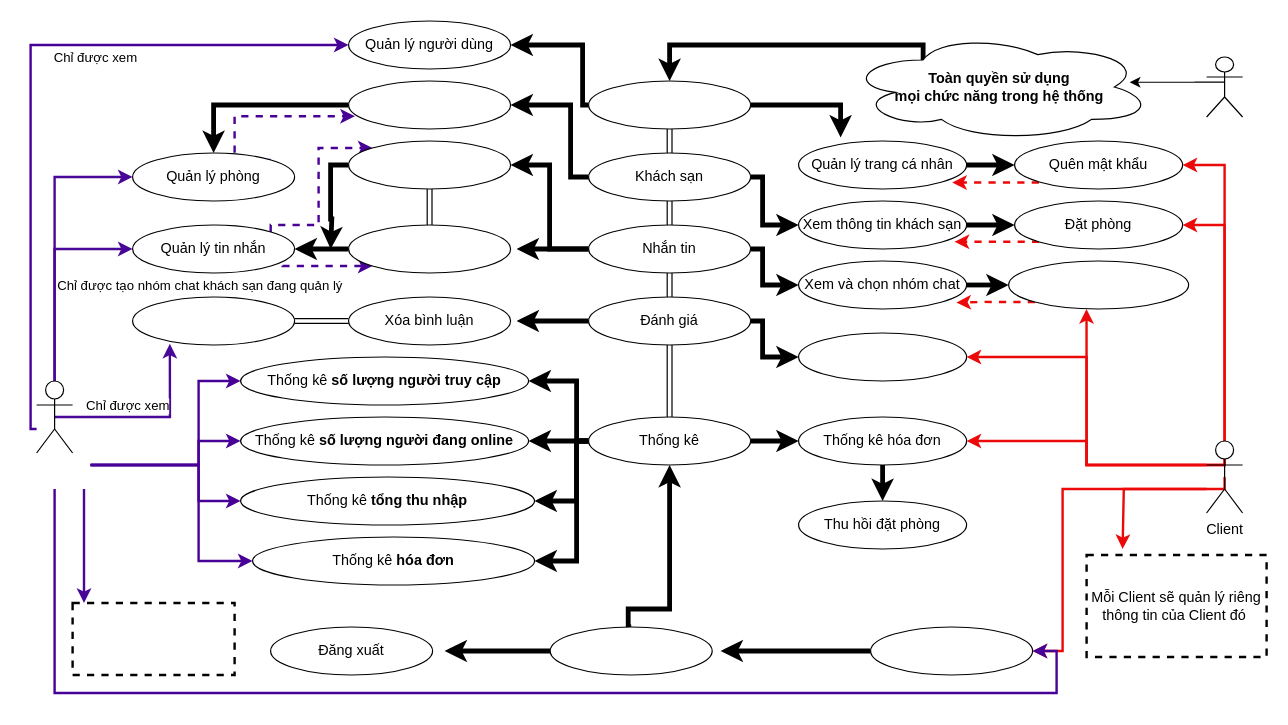
The diagram is 1288 pixels wide and 725 high, and some of its shapes have lost their labels. The shapes that lost their labels are listed below. From the top down, each one's centre as x and y in pixels, then its label:
At [429,104]: "Quản lý khách sạn".
At [669,104]: "Người dùng".
At [1224,86]: "Admin".
At [429,164]: "Quản lý người chat".
At [429,248]: "Quản lý nhóm chat".
At [1098,284]: "Quản lý tin nhắn cá nhân".
At [213,320]: "Xem bình luận".
At [882,356]: "Bình luận".
At [54,416]: "Manage".
At [153,638]: "Mỗi Manage sẽ chỉ được quản lý duy nhất một khách sạn".
At [630,650]: "Đăng nhập".
At [951,650]: "Đăng ký".
